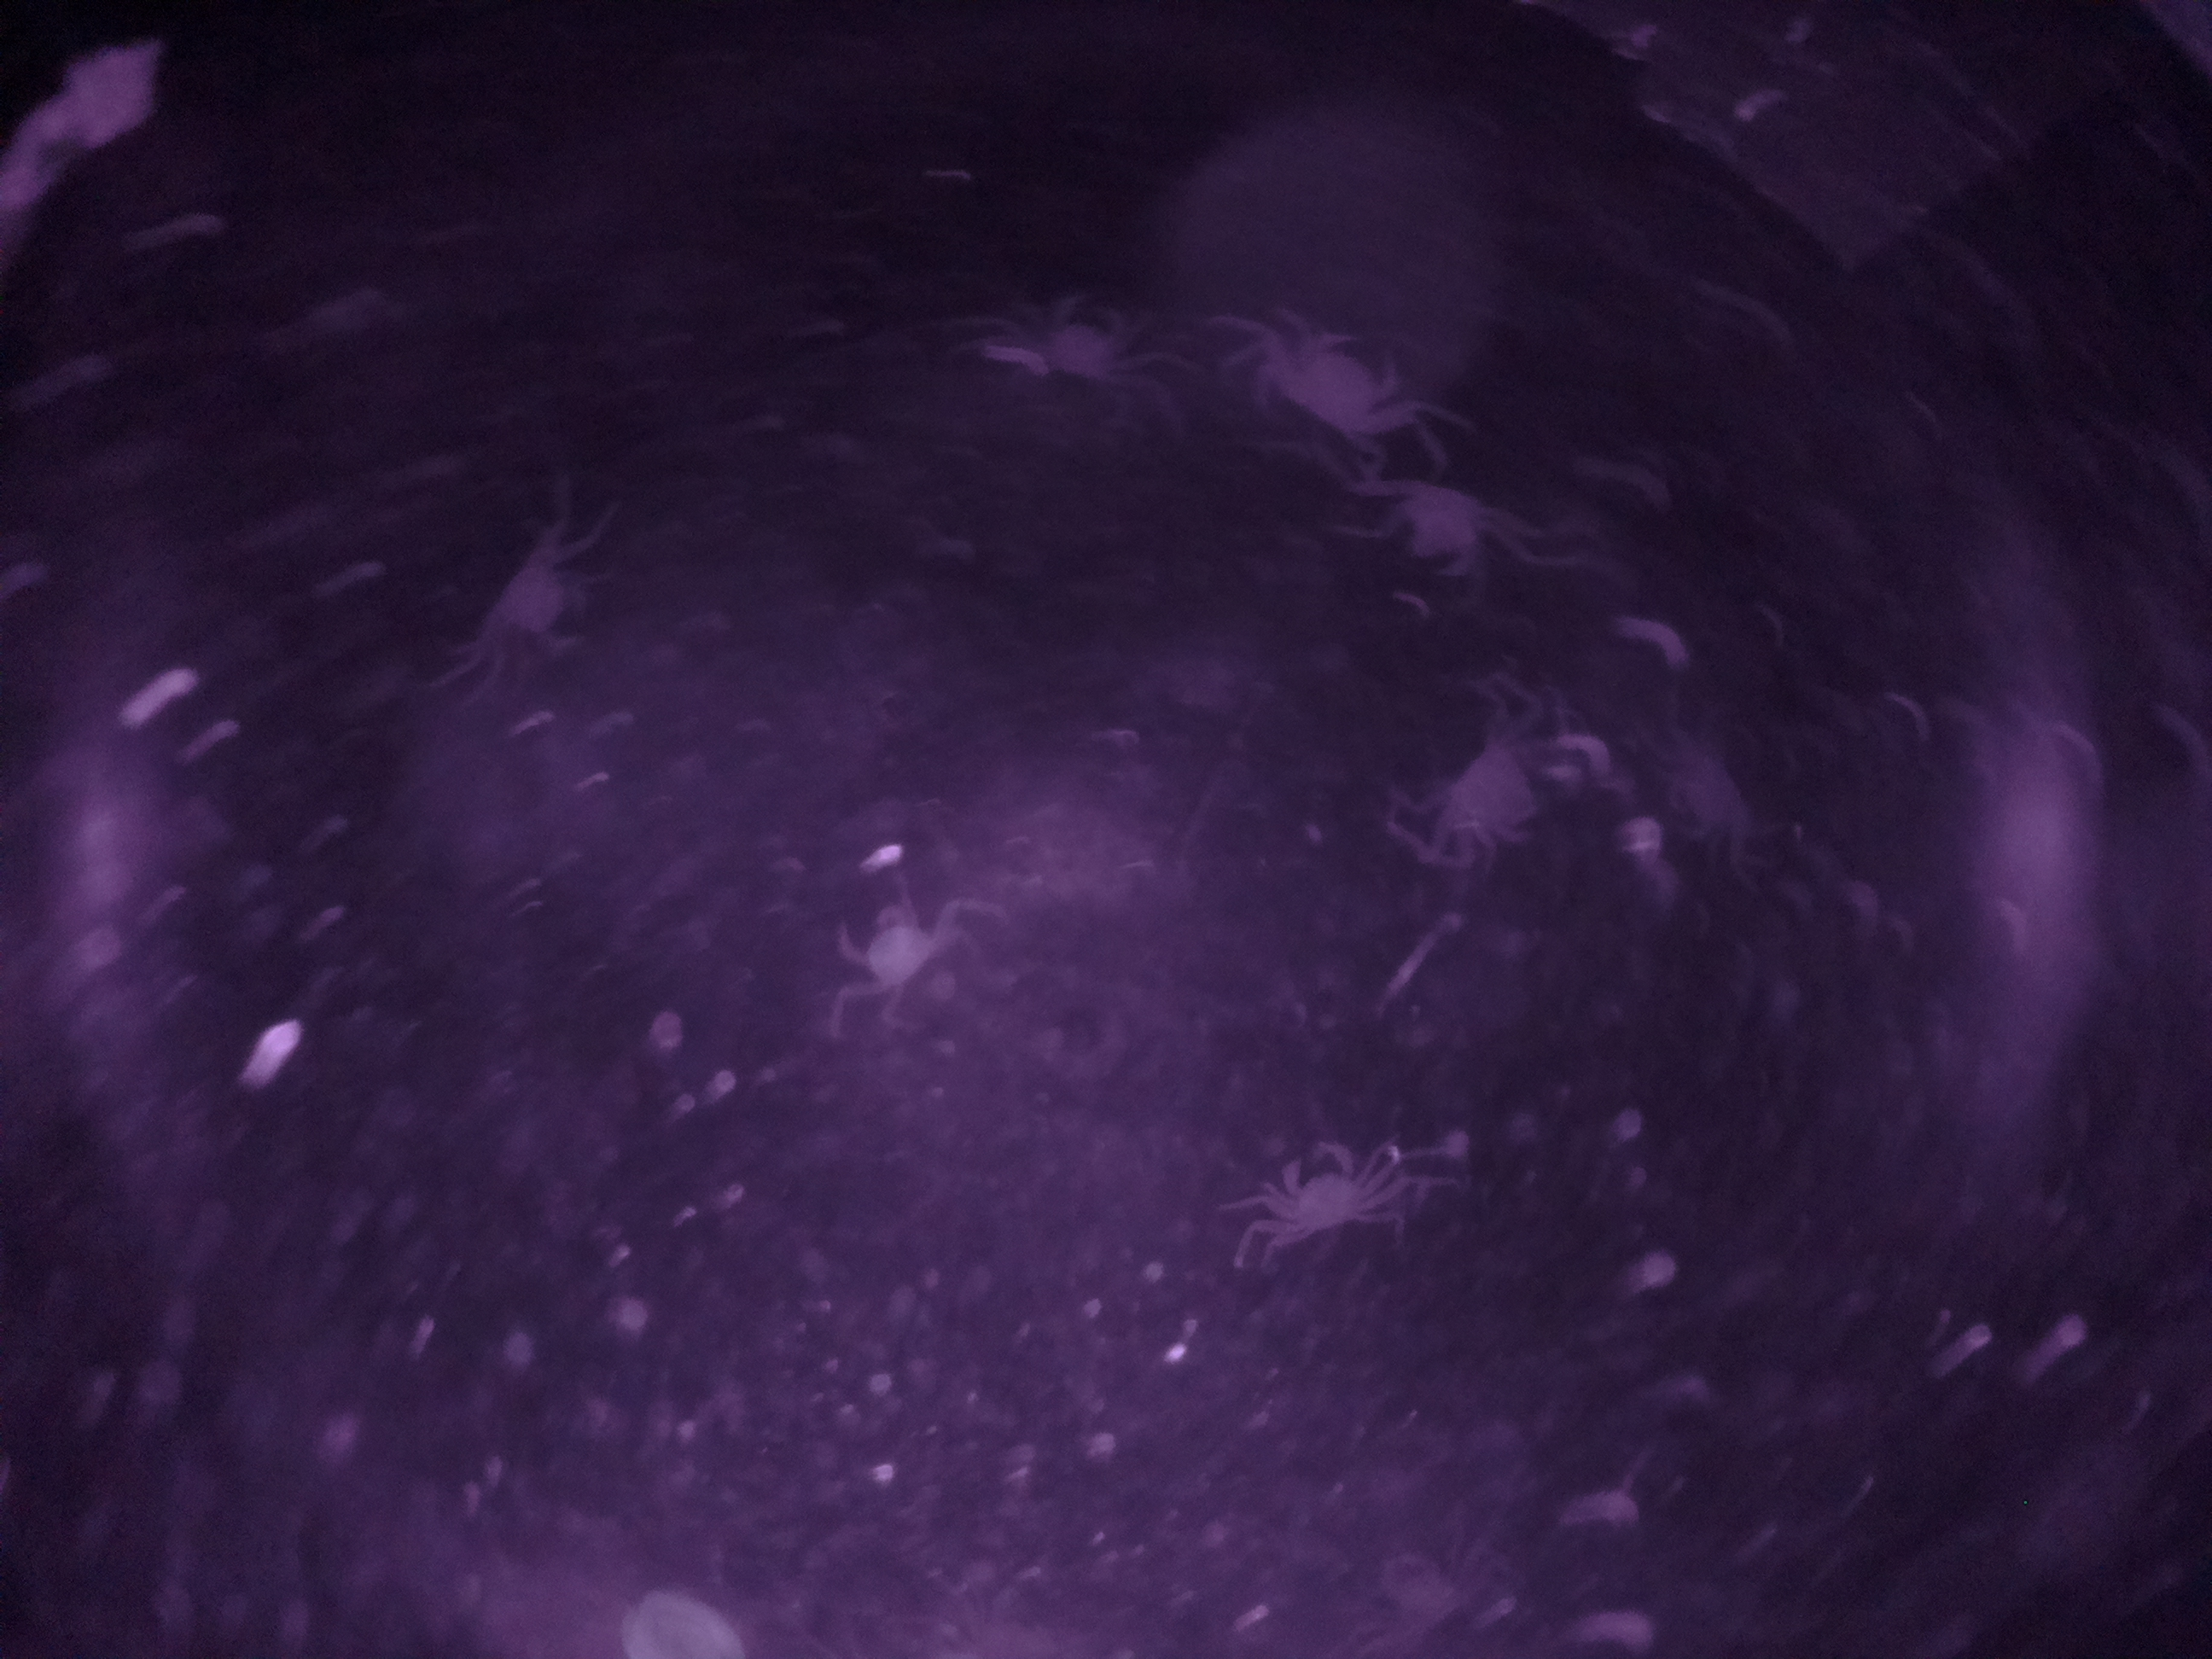Crab: (1249, 305, 1440, 462), (1258, 1119, 1381, 1263)
